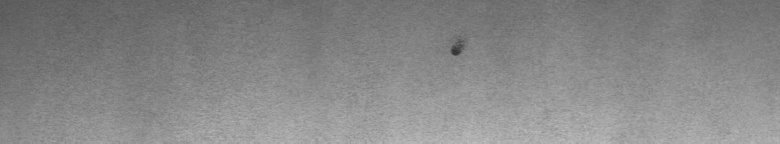fi: (445, 36, 468, 63)
